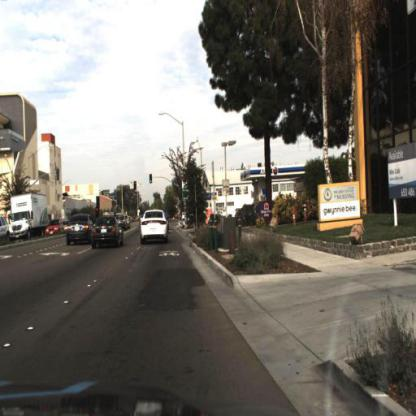car: (139, 208, 173, 248), (91, 215, 125, 251), (65, 209, 92, 249), (45, 216, 67, 239), (220, 200, 238, 224)
trafficLight-Green: (149, 171, 154, 189)
trafficLight-Red: (132, 178, 139, 196), (122, 186, 129, 200)
truck: (9, 194, 49, 235)
